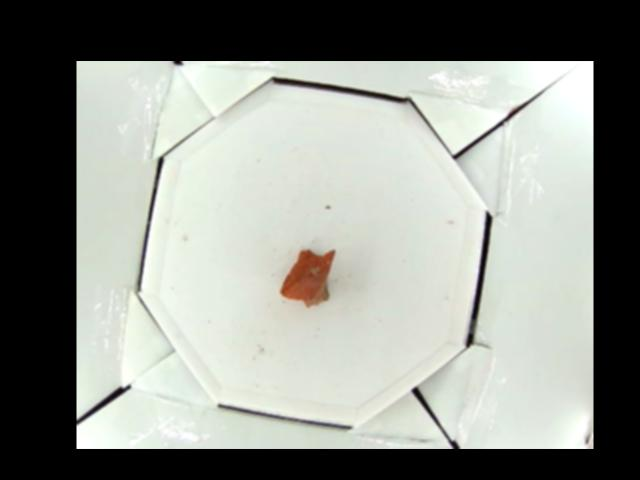Brisk: (280, 246, 334, 305)
